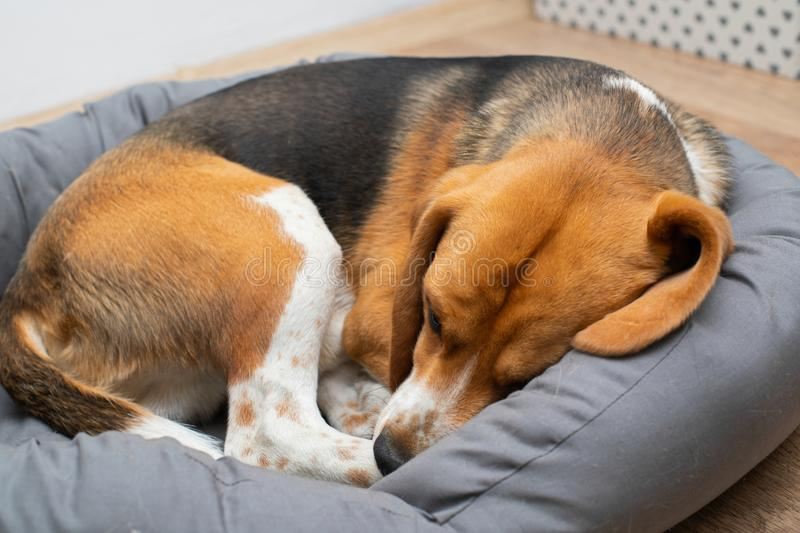dog: (10, 54, 724, 485)
